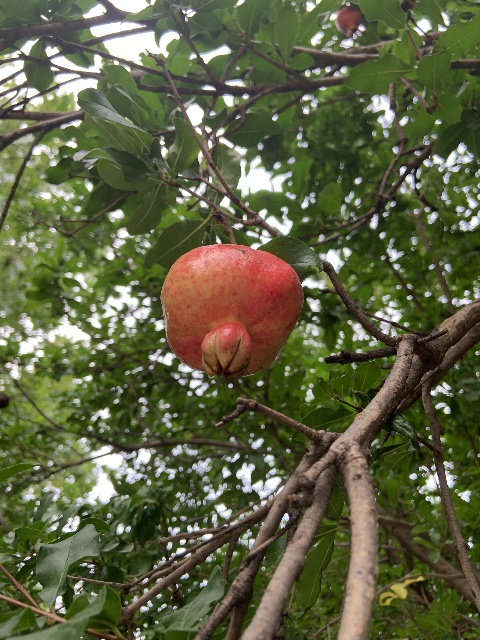ripe: (160, 243, 304, 378), (336, 6, 362, 36)
